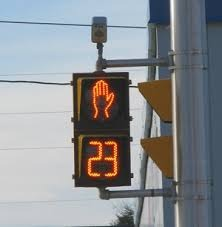pedestrian_stop: (75, 76, 130, 128)
